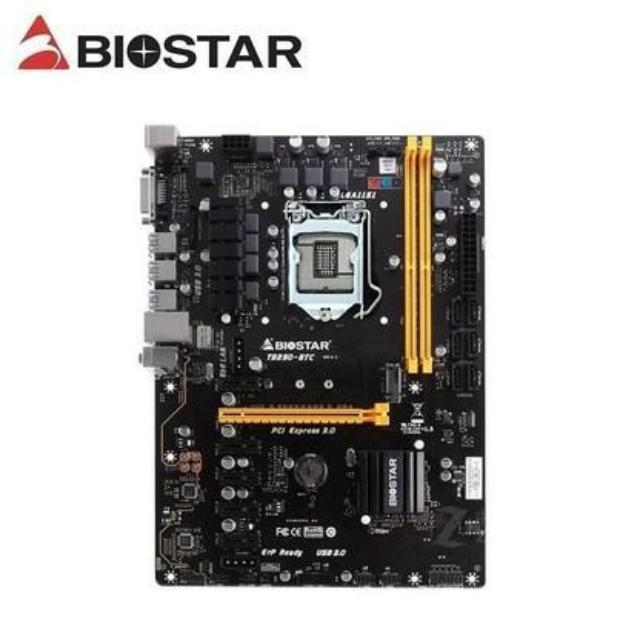Mainboard: (128, 118, 488, 590)
